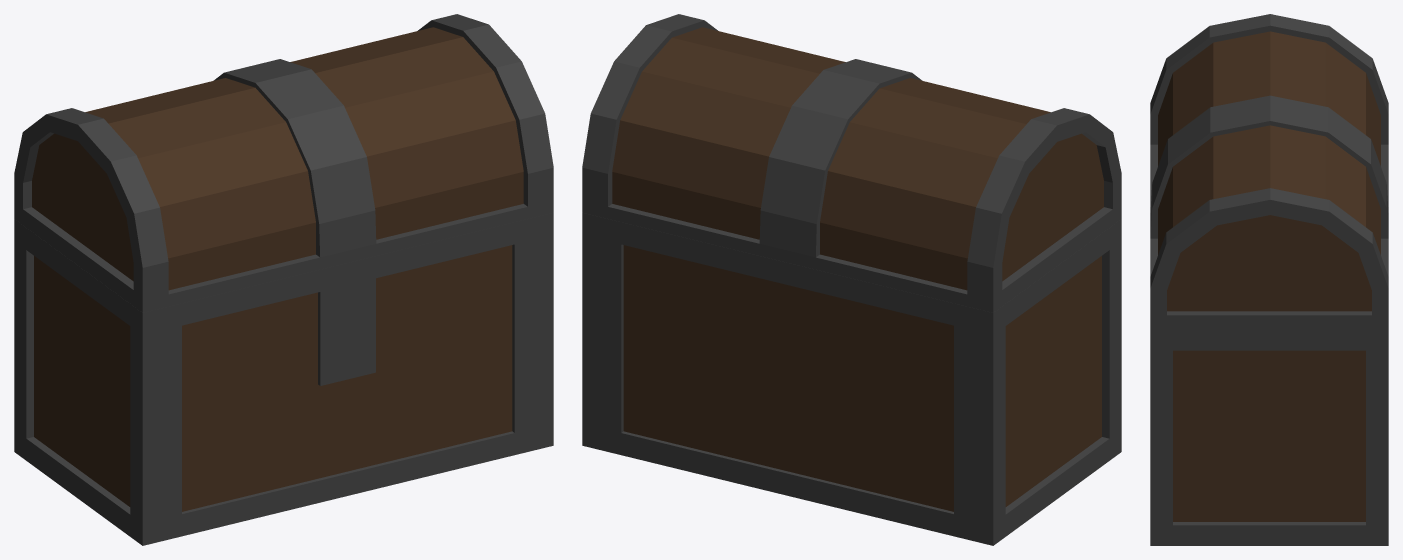
3 renders of one model, left to right at view 1: azimuth 30°, elevation 25°; view 2: azimuth 150°, elevation 25°; view 3: azimuth 270°, elevation 25°, orthographic. The views are drawn at different scales.
Parts seen in each view (by area): view 1: Box_01; view 2: Box_01; view 3: Box_01.
Boxes of the visible parts, x1,y1,x2,y2 form: Box_01: [14, 14, 553, 545]; Box_01: [582, 14, 1121, 545]; Box_01: [1150, 14, 1388, 545].
Size of the model in its own units: 182 by 158 by 98.46.
